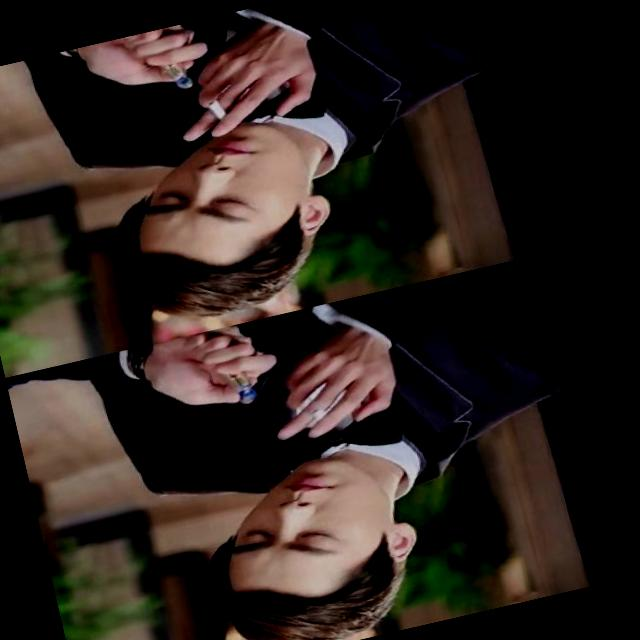cigarette: (199, 91, 228, 118)
